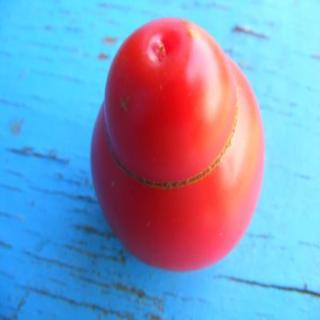tomato: (99, 12, 258, 254)
